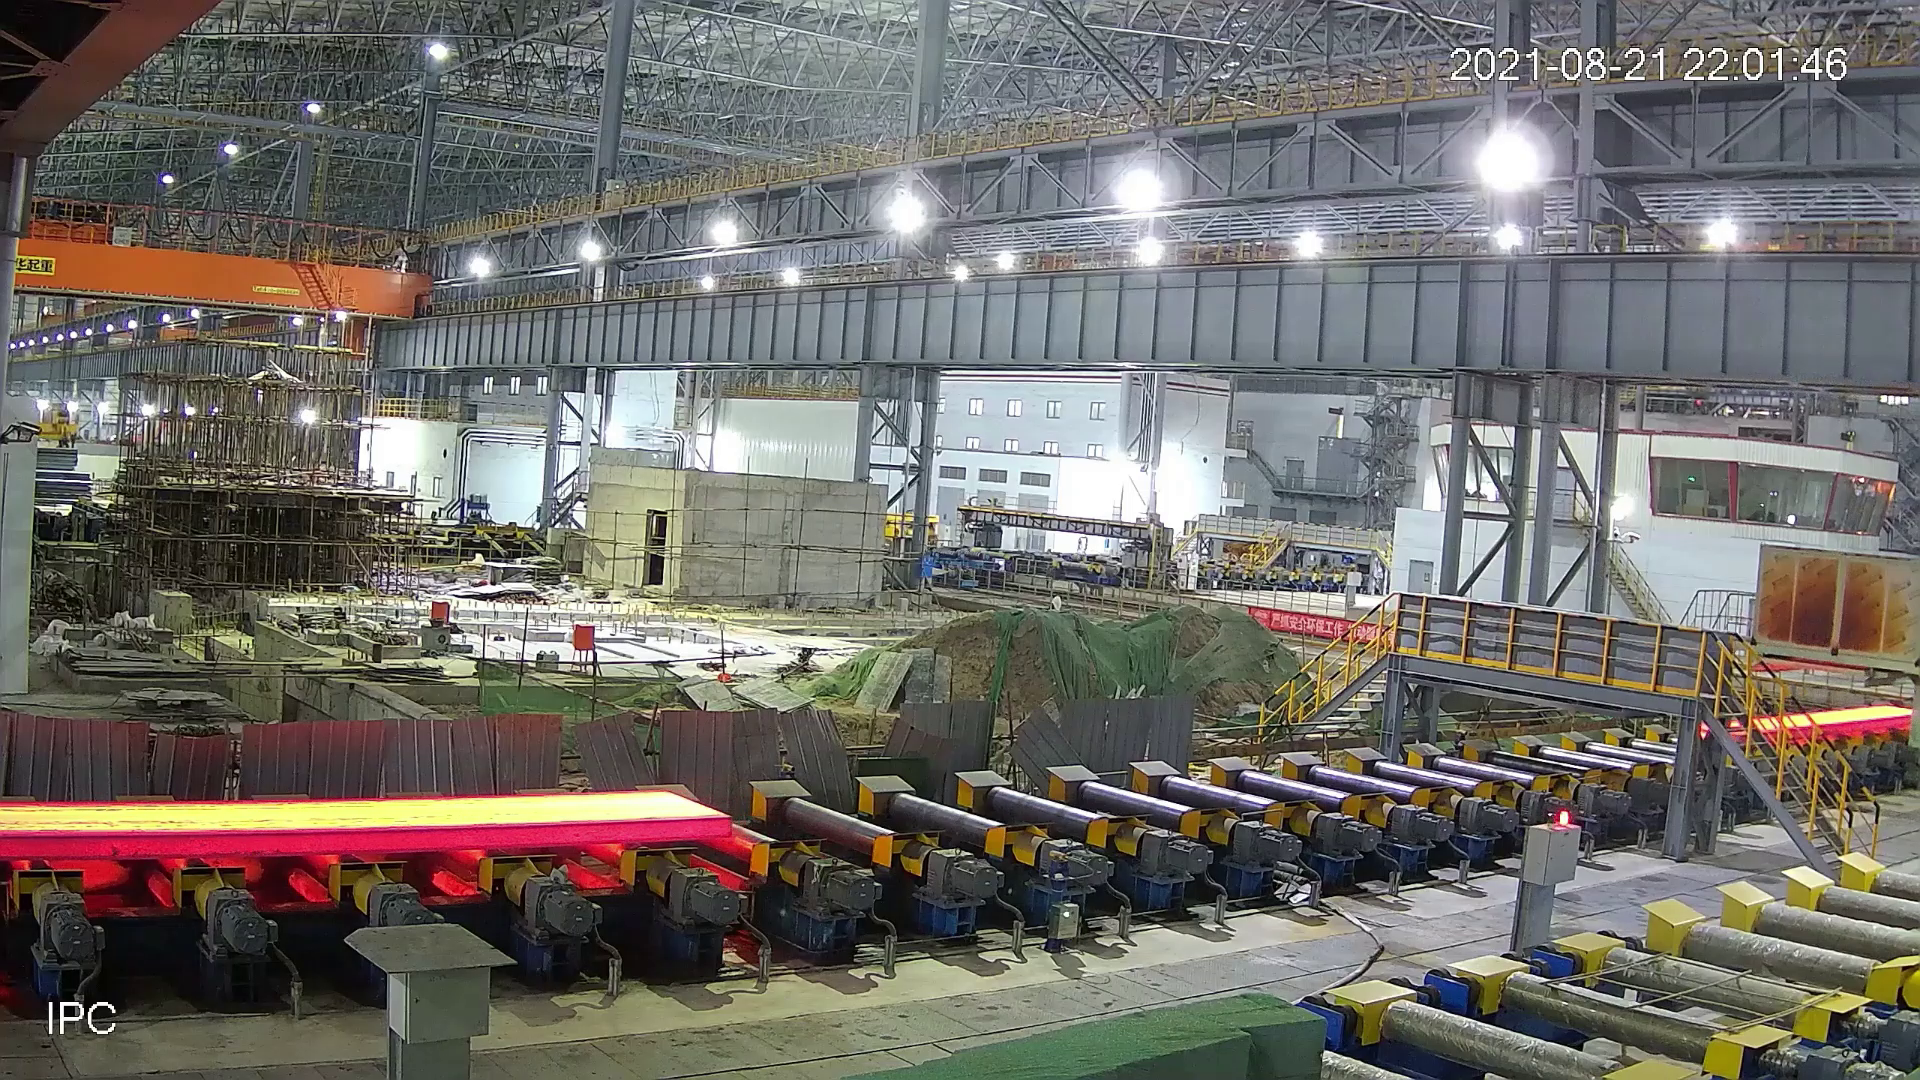slab: (1, 786, 738, 874), (1677, 698, 1915, 746)
